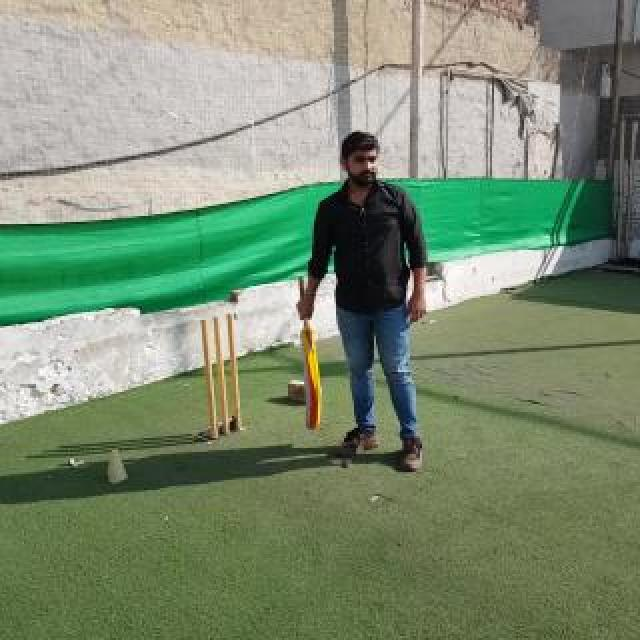bat: (298, 276, 322, 428)
